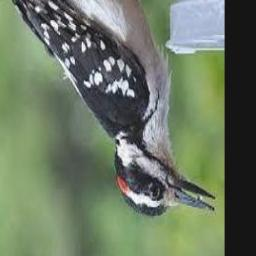Woodpecker: (0, 0, 216, 217)
